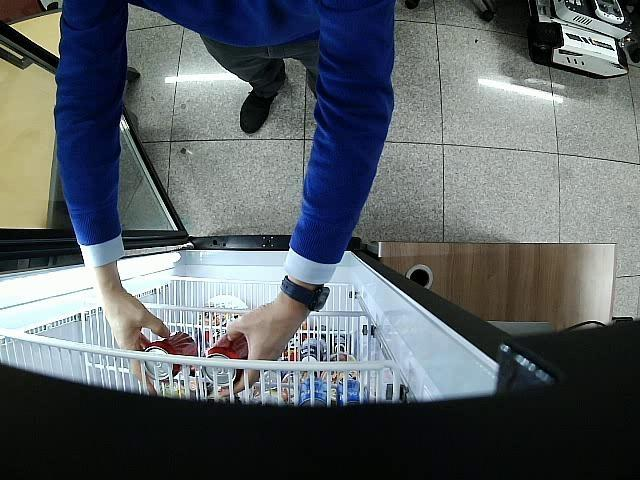11_cocaColaZero: (143, 332, 198, 380), (204, 332, 248, 386)
